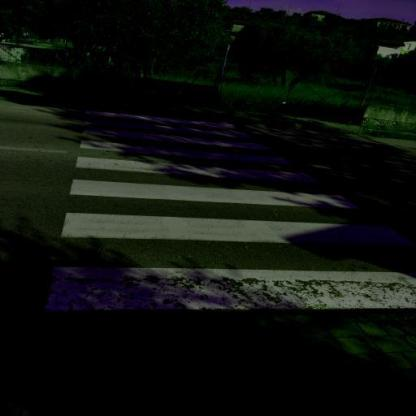crosswalk: (36, 209, 414, 314), (70, 137, 328, 186)
